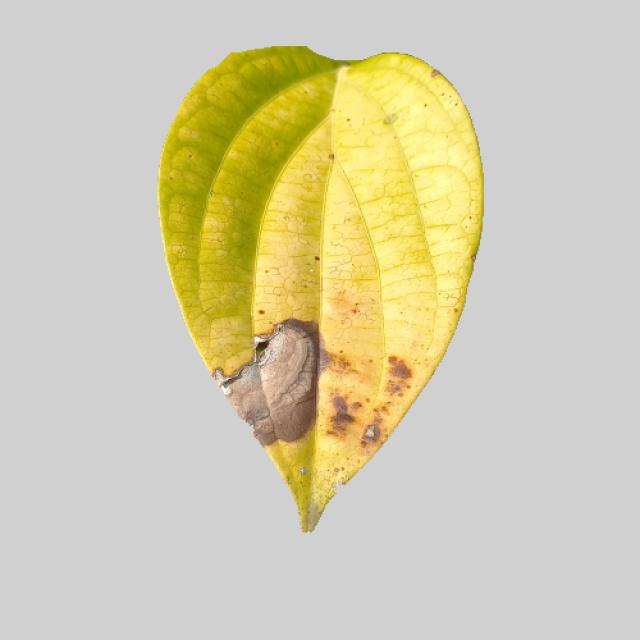leaf-blight: (138, 50, 504, 532)
